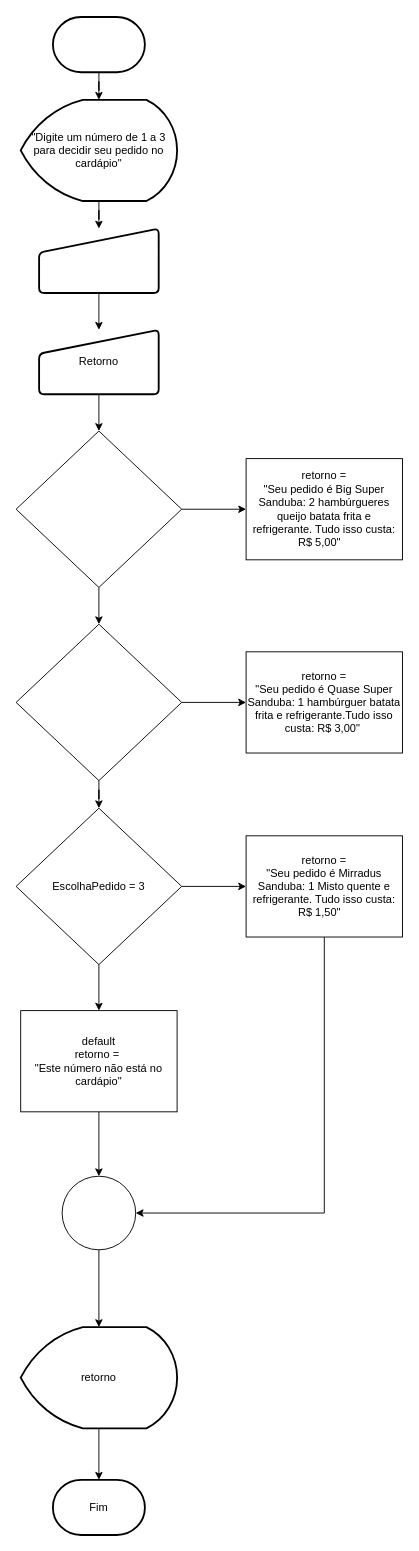
This 419x1551 diagram has some shape labels left out. The shapes that lost their labels are listed below. From the top down, each one's box as (x1, y1, x2, y2) in pixels, then its label:
(52, 16, 145, 73): Inicio
(38, 227, 159, 293): EscolhaPedido
(15, 430, 182, 587): EscolhaPedido = 1
(15, 623, 182, 781): EscolhaPedido = 2
